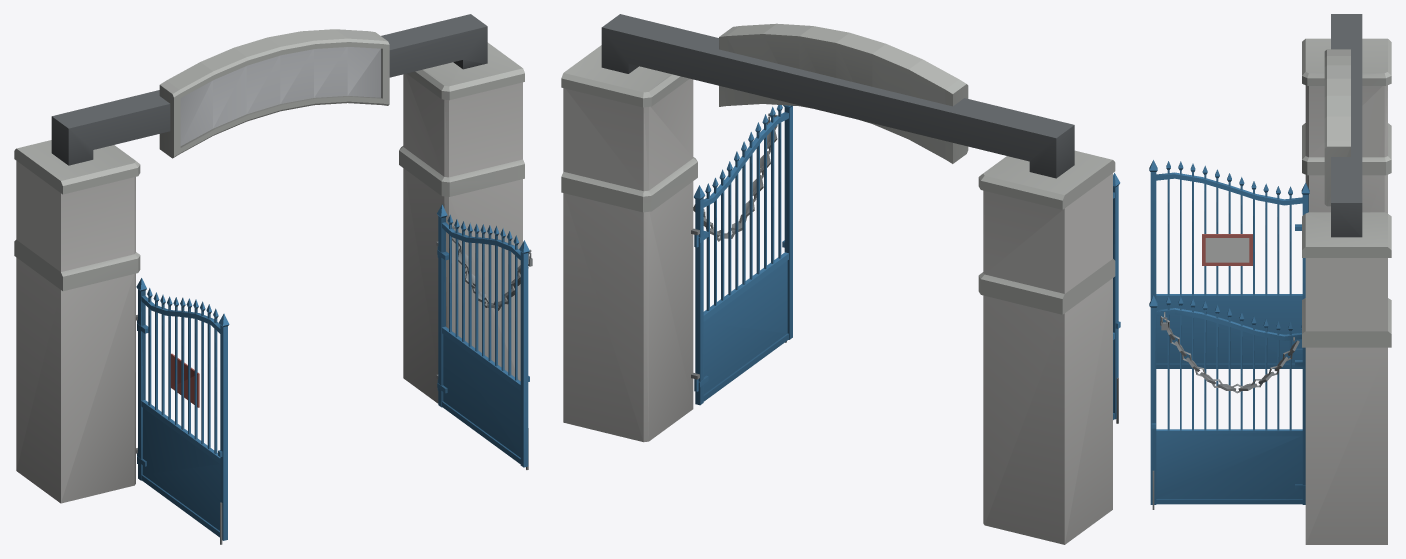
File: gate.glb
3 views of the same model, side by side, from view 1: azimuth 30°, elevation 25°; view 2: azimuth 150°, elevation 25°; view 3: azimuth 270°, elevation 25° (orthographic). The views are drawn at different scales.
Visible parts, largest first — view 1: gate; view 2: gate; view 3: gate.
Part boxes in pixels (x1,y1,x2,y2): gate: (14,14,532,544); gate: (561,14,1120,544); gate: (1149,14,1391,544).
Bounding box in the file's own units: 8.4 × 6.8 × 4.12.
